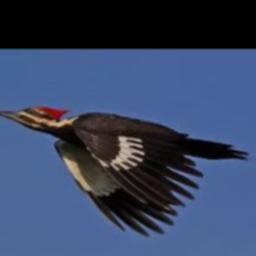Woodpecker: (0, 105, 250, 236)
